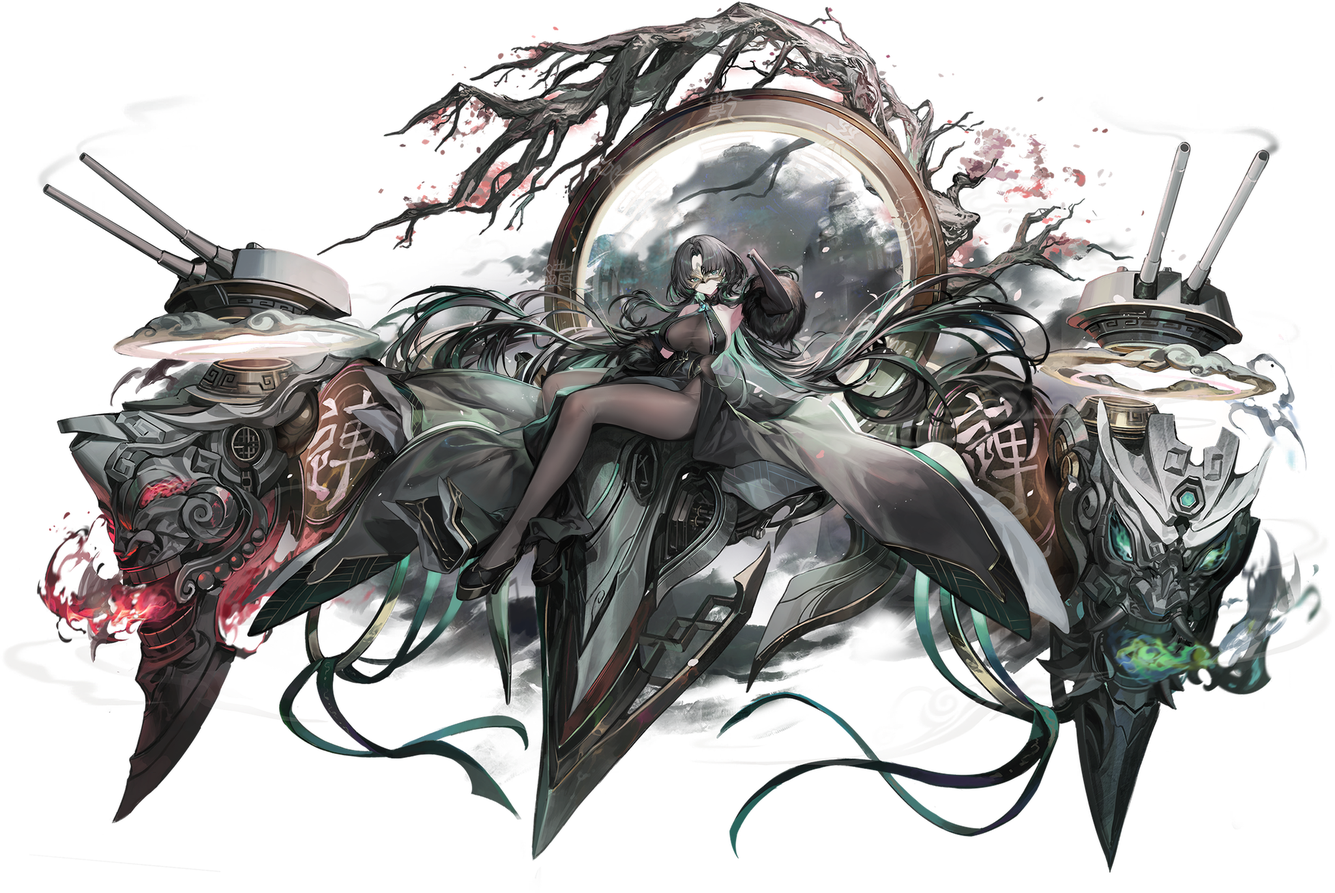person: (418, 209, 838, 657)
